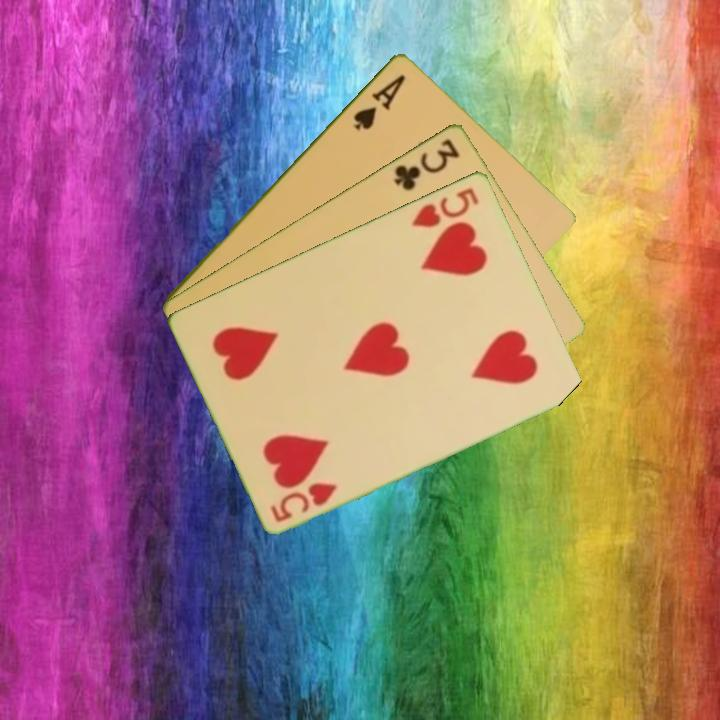3c: (390, 134, 463, 193)
5h: (407, 183, 482, 230), (267, 478, 340, 525)
As: (349, 70, 408, 133)
